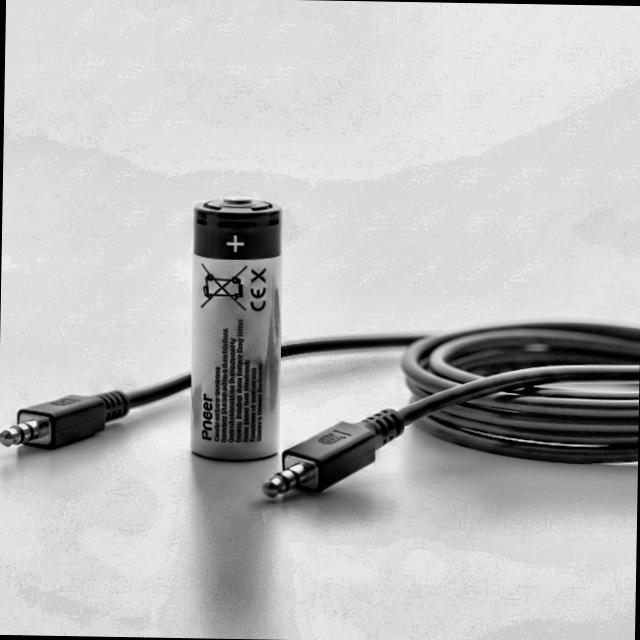Battery: (189, 194, 284, 462)
Cable: (266, 322, 640, 502), (0, 364, 189, 459)
